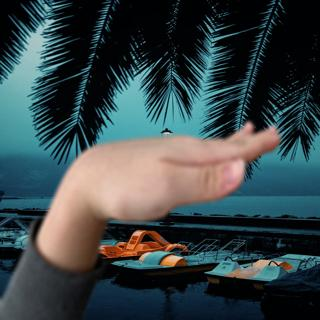Wait: (38, 119, 289, 241)
